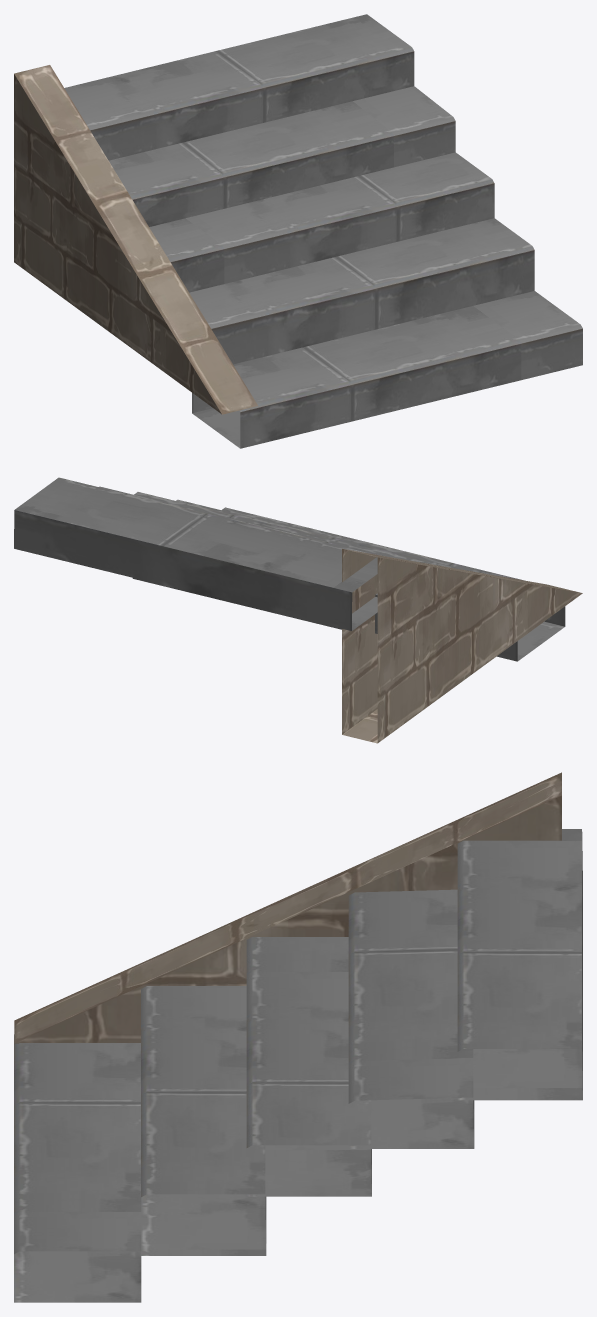
Rendered from Stairs_Exterior_Straight_L.gltf.
3 views of the same model, one above another, from view 1: azimuth 30°, elevation 25°; view 2: azimuth 150°, elevation 25°; view 3: azimuth 270°, elevation 25° (orthographic). The views are drawn at different scales.
Parts seen in each view (by area): view 1: Stairs_Exterior_Straight_L; view 2: Stairs_Exterior_Straight_L; view 3: Stairs_Exterior_Straight_L.
Boxes of the visible parts, box(x1,y1,x2,y2) form: Stairs_Exterior_Straight_L: box(14, 14, 582, 448); Stairs_Exterior_Straight_L: box(14, 477, 582, 743); Stairs_Exterior_Straight_L: box(14, 772, 582, 1302).
Bounding box in the file's own units: 2 × 1.2 × 2.08.
Materials: 2 (2 with a texture image).
